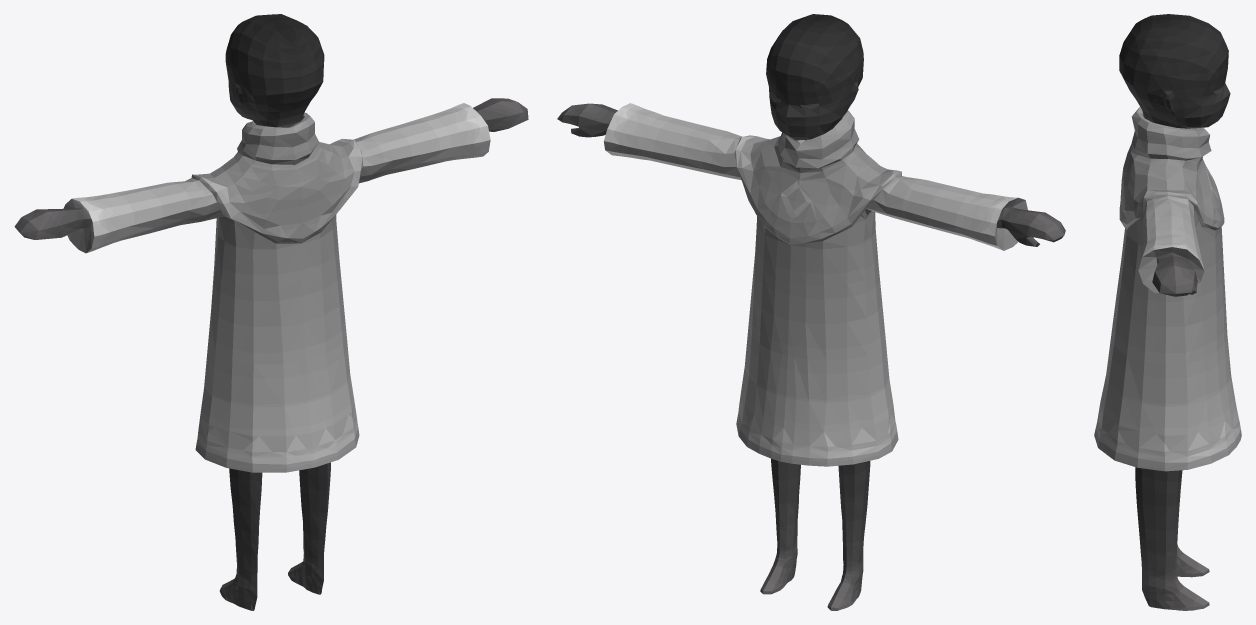
Rendered from CharSkyKid_Body_ClassicCivilian.glb.
The picture shows the model from 3 angles, left to right: view 1: azimuth 30°, elevation 25°; view 2: azimuth 150°, elevation 25°; view 3: azimuth 270°, elevation 25°; orthographic projection.
Parts seen in each view (by area): view 1: CharSkyKid_Body_ClassicCivilian; view 2: CharSkyKid_Body_ClassicCivilian; view 3: CharSkyKid_Body_ClassicCivilian.
Part boxes in pixels (<box>): CharSkyKid_Body_ClassicCivilian: <box>14,14,528,610</box>; CharSkyKid_Body_ClassicCivilian: <box>557,14,1065,610</box>; CharSkyKid_Body_ClassicCivilian: <box>1094,14,1241,610</box>.
Bounding box in the file's own units: 13.83 × 14.96 × 3.5.
Materials: 1 (1 with a texture image).
